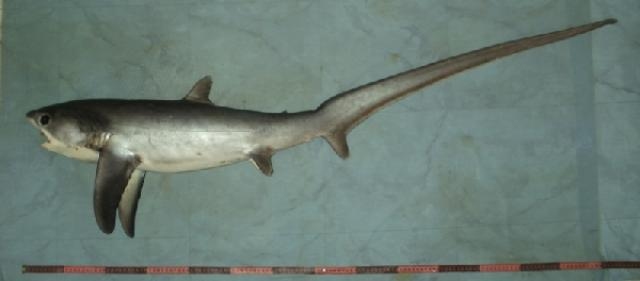Mulut: (24, 119, 62, 160)
Sirip Anal: (278, 106, 314, 140)
Sirip Dada: (89, 145, 147, 247)
Sirip Ekor: (319, 13, 629, 164)
Sirip Perut: (244, 142, 282, 178)
Sirip Punggung: (178, 67, 216, 109)
